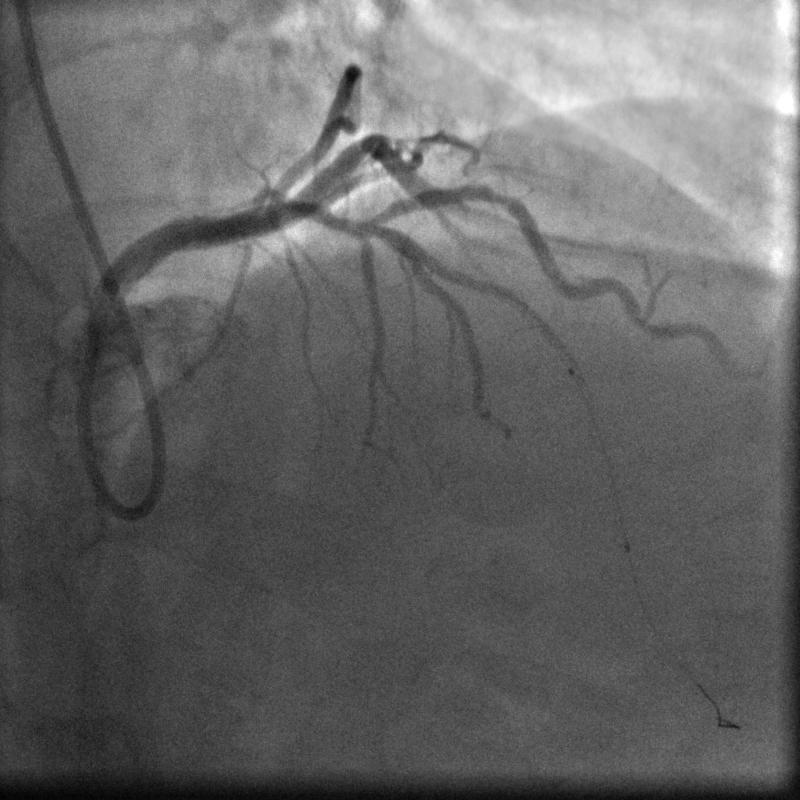Stenosis: (472, 178, 519, 218)
